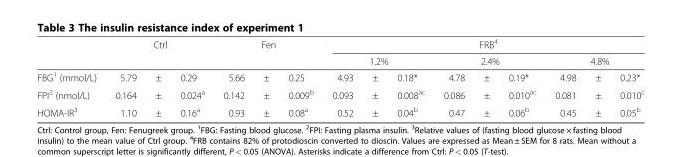table: (36, 36, 643, 118)
table column: (36, 36, 105, 118), (498, 36, 545, 118), (387, 36, 433, 118), (278, 36, 322, 118), (170, 36, 213, 118), (105, 36, 145, 118), (213, 36, 253, 118), (322, 36, 362, 118), (433, 36, 473, 118), (545, 36, 584, 118), (609, 36, 643, 118), (145, 36, 170, 118), (253, 36, 278, 118), (362, 36, 387, 118), (473, 36, 498, 118), (584, 36, 609, 118)
table column header: (36, 36, 643, 85)
table row: (36, 68, 643, 85), (36, 85, 643, 102), (36, 36, 643, 52), (36, 52, 643, 68), (36, 102, 643, 118)
table spanning cell: (322, 36, 643, 52), (213, 36, 322, 68), (105, 36, 213, 68), (36, 36, 105, 85), (433, 52, 545, 68), (322, 52, 433, 68), (545, 52, 643, 68)
